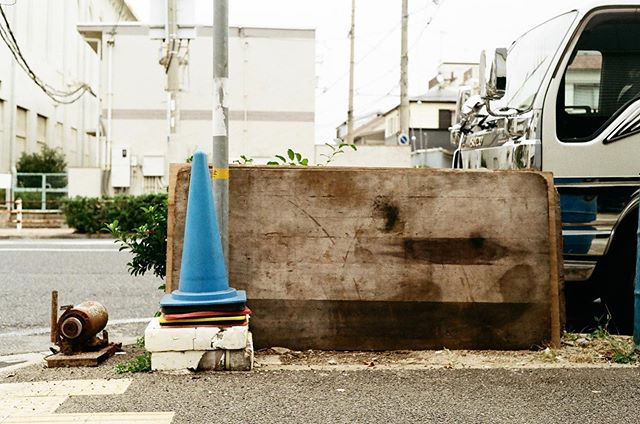building: (82, 16, 315, 162), (1, 1, 93, 176), (344, 36, 461, 167)
traffic cone: (147, 155, 254, 327)
truck: (451, 2, 640, 353)
